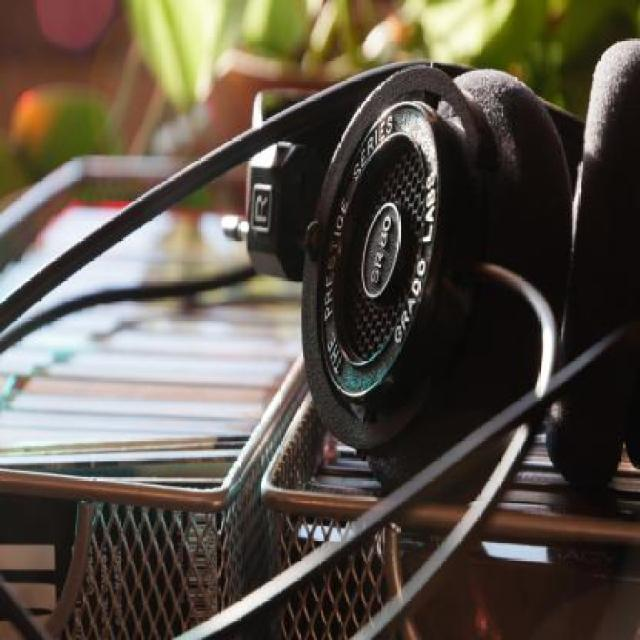earphone: (205, 20, 640, 463)
